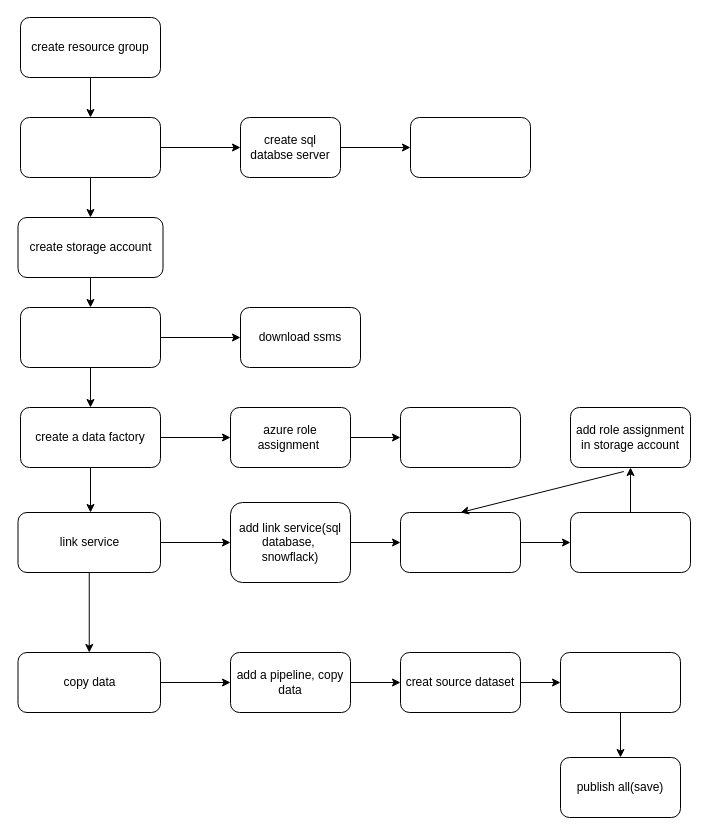
Some shapes in this 708 by 835 pixel diagram are drawn without their labels. Here are the shapes that lost their labels. From the top down, the centre of each, then its label:
At (90,147): "create database".
At (470,147): "create new user".
At (90,337): "connect to ssms".
At (460,437): "launch studio".
At (460,542): "add link service( azure blob storage account)".
At (630,542): "create container (get the URL)".
At (620,682): "create sink dataset".
